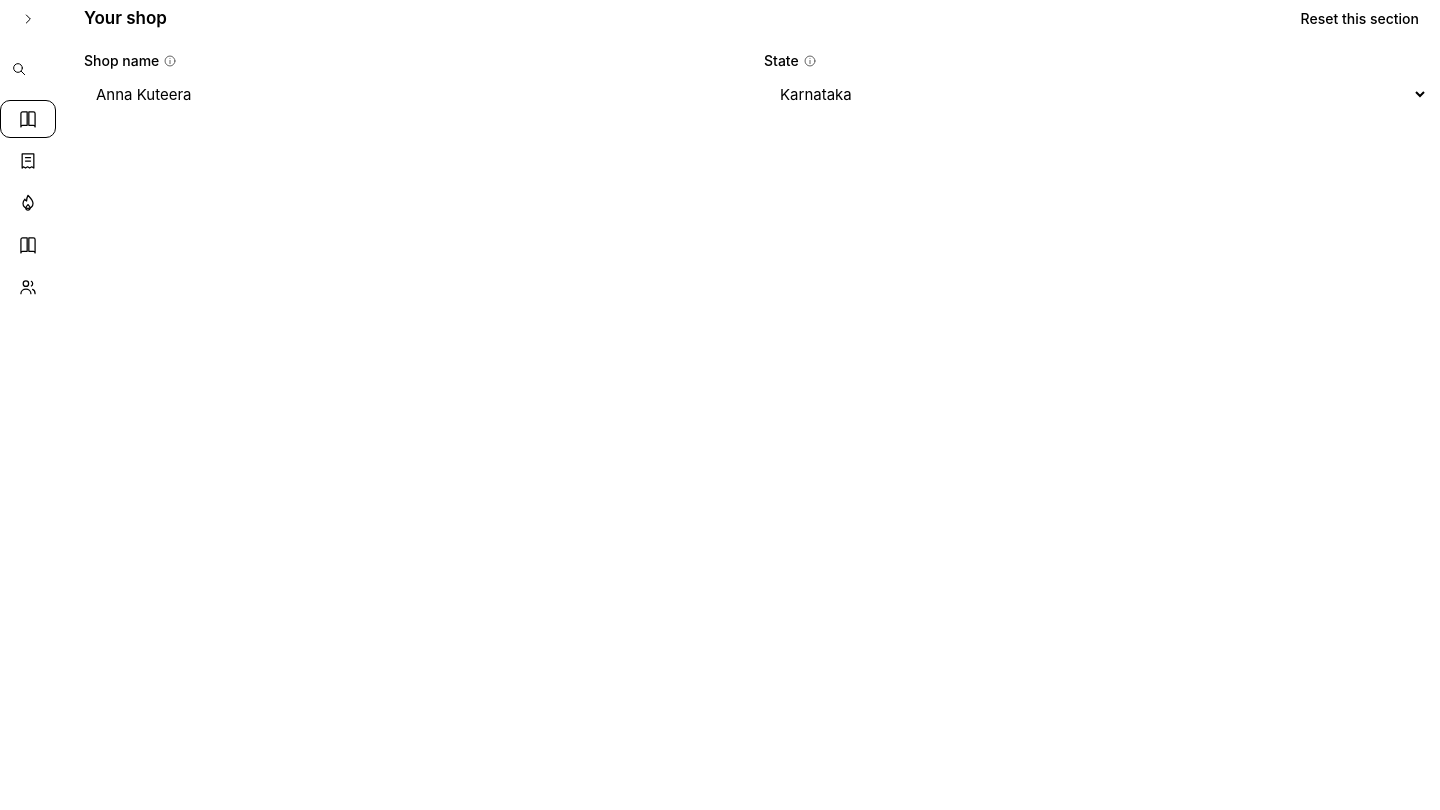
the settings screen › SAVES before moving when asked to
Replace the text in the field labelled "Shop name" with "Changed" at coordinates (416, 94), box [84, 75, 748, 113]
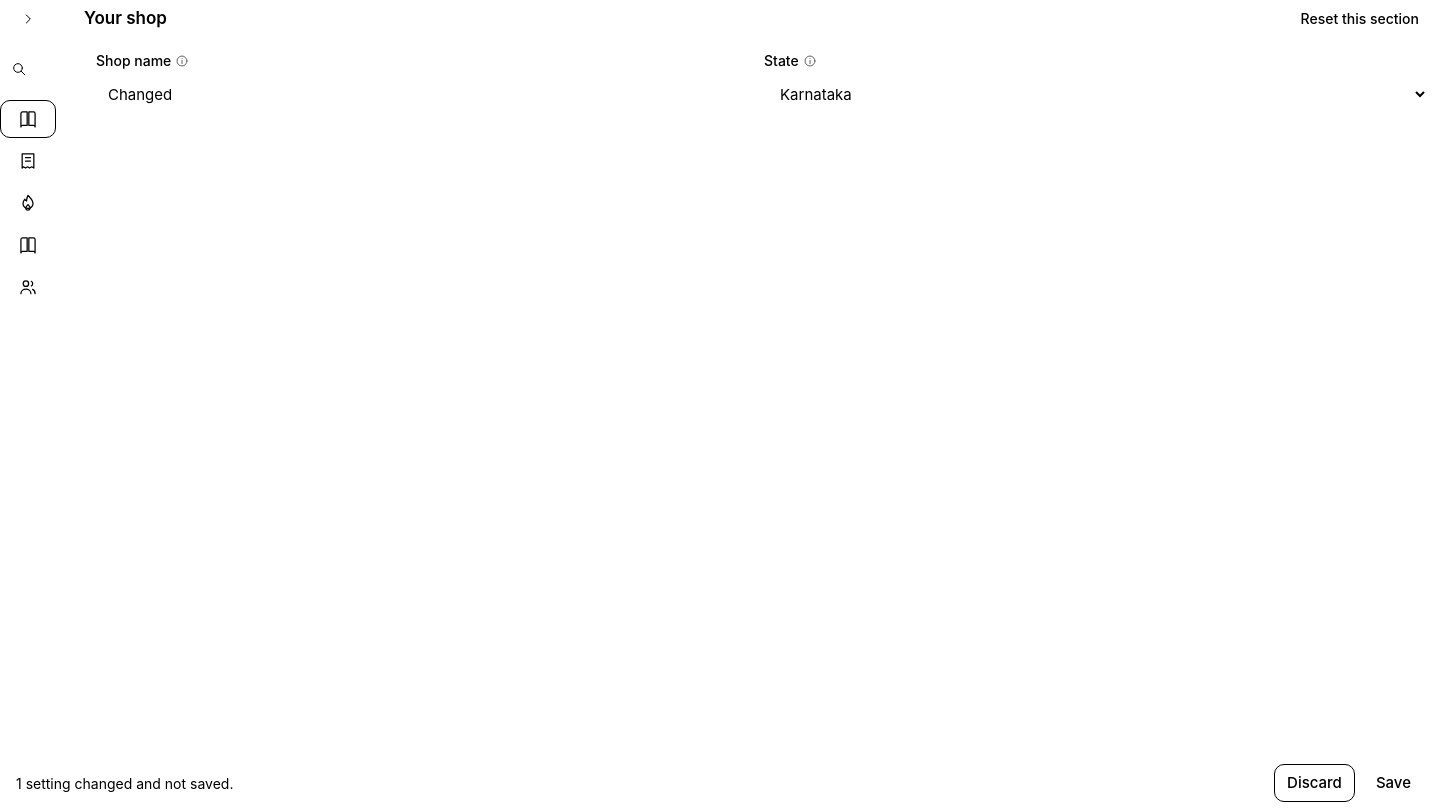
Click the button named "The bill" at coordinates (28, 161), box [0, 142, 56, 180]
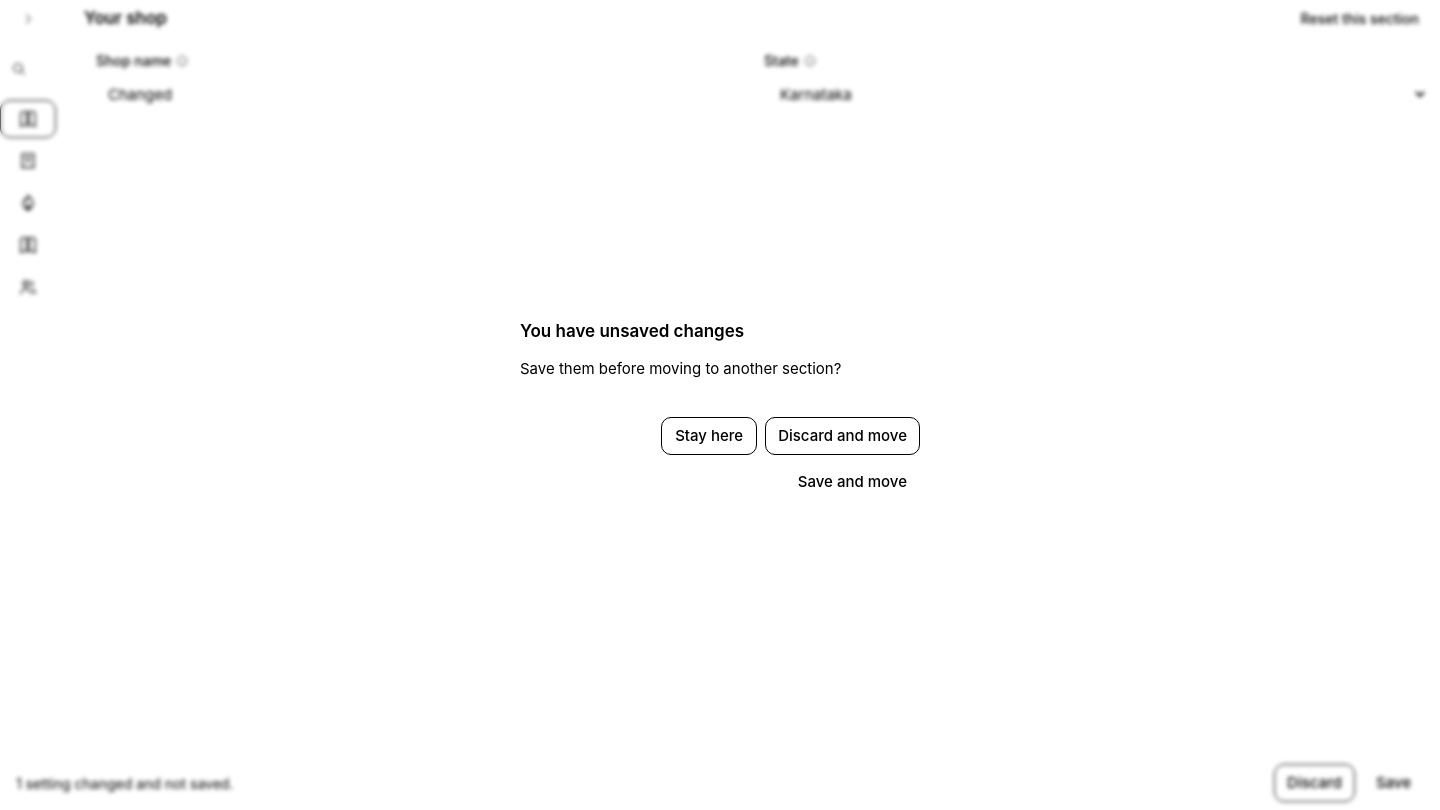
Click the button "Save and move" at coordinates (852, 482), box [785, 463, 920, 501]
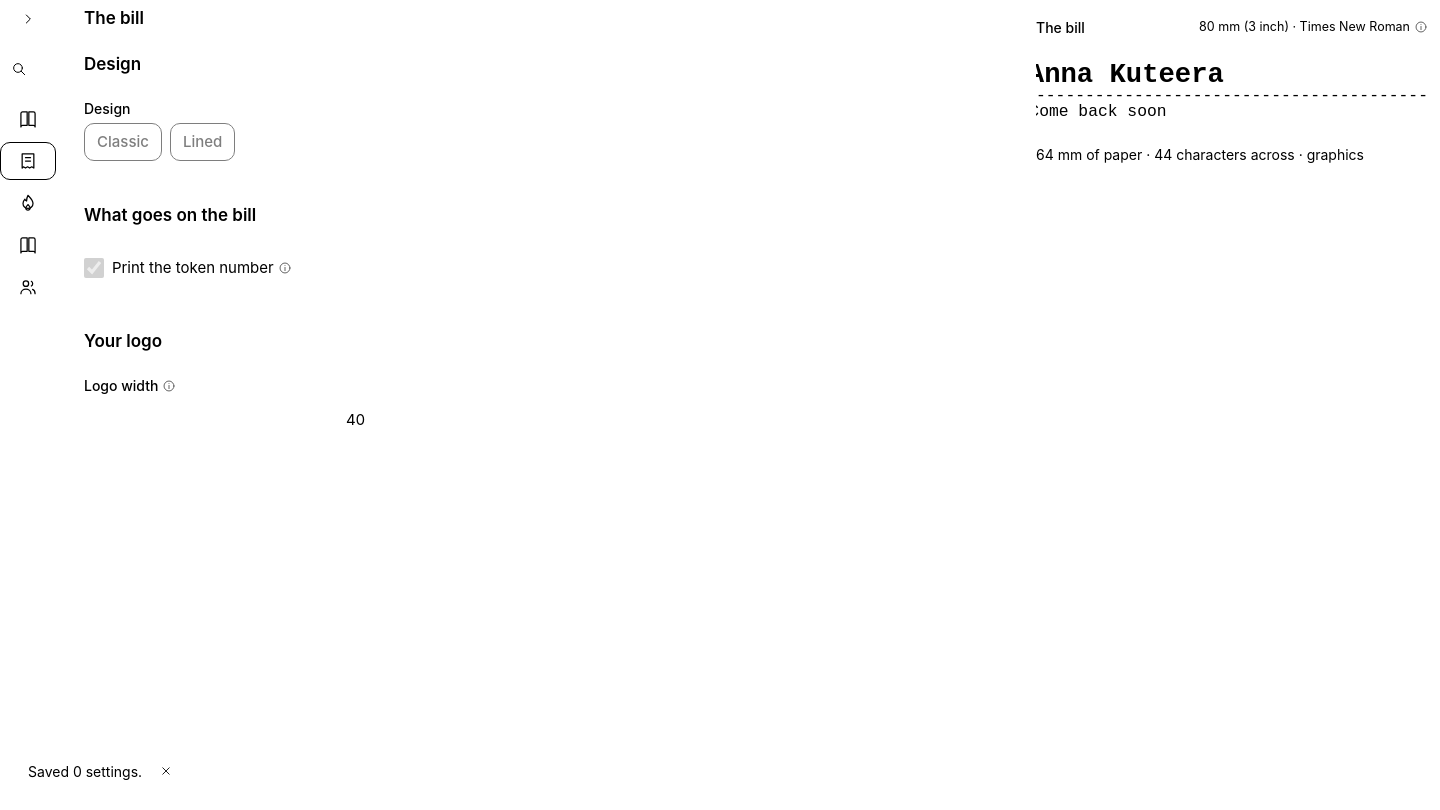
Check: the checkbox labelled "Print the token number" is shown, box [84, 258, 104, 278]
